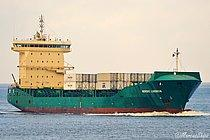Ship: (7, 11, 206, 118)
